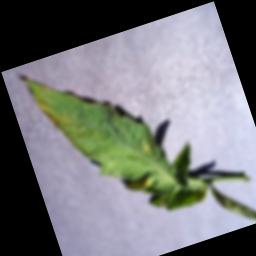Leaf_Mold: (35, 89, 79, 147), (137, 134, 158, 156)
